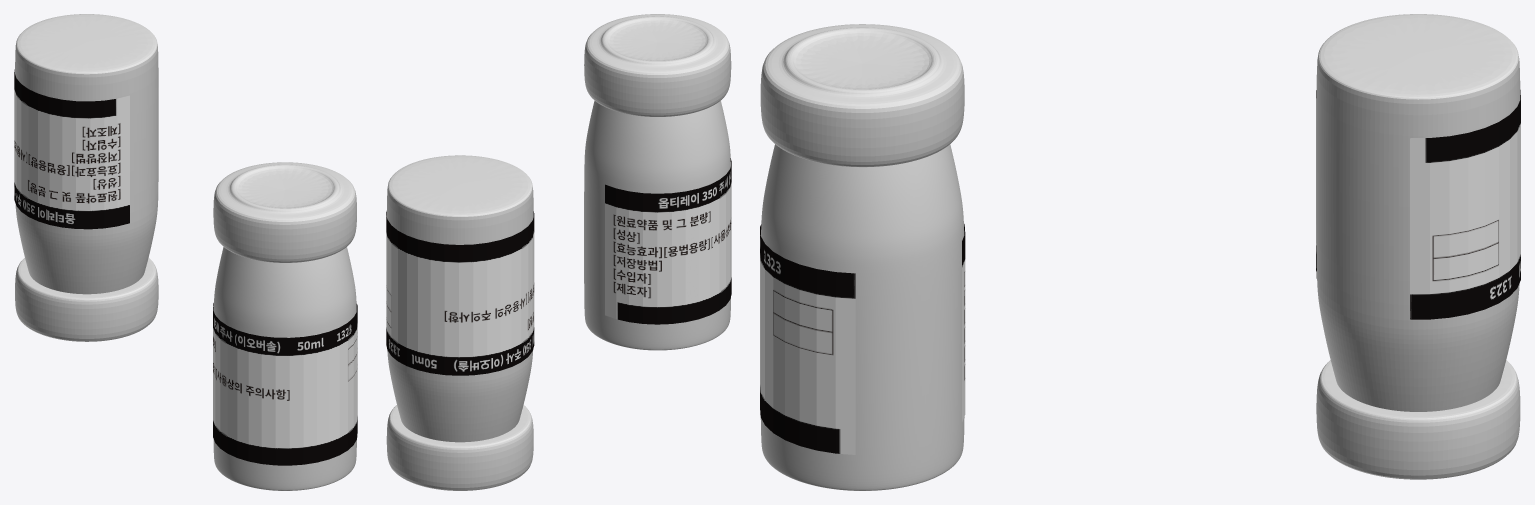
The model's file is 조영제.fbx.
3 views of the same model, side by side, from view 1: azimuth 30°, elevation 25°; view 2: azimuth 150°, elevation 25°; view 3: azimuth 270°, elevation 25° (orthographic). The views are drawn at different scales.
Visible parts, largest first — view 1: 병거꾸로, 라벨, 라벨거꾸로, 병, 뚜껑, 뚜껑거꾸로; view 2: 병거꾸로, 라벨거꾸로, 병, 라벨, 뚜껑, 뚜껑거꾸로; view 3: 병거꾸로, 병, 뚜껑, 라벨거꾸로, 라벨, 뚜껑거꾸로.
Part boxes in pixels (box(x1,y1,x2,y2)): 병거꾸로: box(15, 14, 158, 294); 라벨: box(213, 303, 357, 465); 라벨거꾸로: box(14, 69, 129, 229); 병: box(213, 247, 356, 490); 뚜껑: box(213, 162, 356, 262); 뚜껑거꾸로: box(15, 258, 158, 341); 병거꾸로: box(386, 155, 533, 442); 라벨거꾸로: box(386, 211, 534, 375); 병: box(584, 100, 730, 350); 라벨: box(605, 158, 731, 324); 뚜껑: box(584, 14, 731, 116); 뚜껑거꾸로: box(386, 405, 533, 490); 병거꾸로: box(1316, 14, 1520, 411); 병: box(760, 144, 964, 490); 뚜껑: box(760, 24, 964, 167); 라벨거꾸로: box(1316, 90, 1520, 319); 라벨: box(760, 224, 965, 454); 뚜껑거꾸로: box(1316, 360, 1520, 479).
Bounding box in the file's own units: 204 × 424 × 739.
